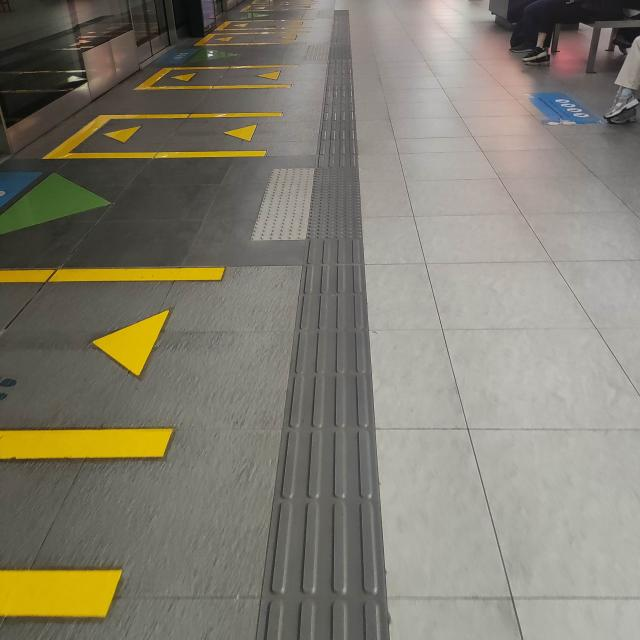lurus: (298, 13, 384, 640)
